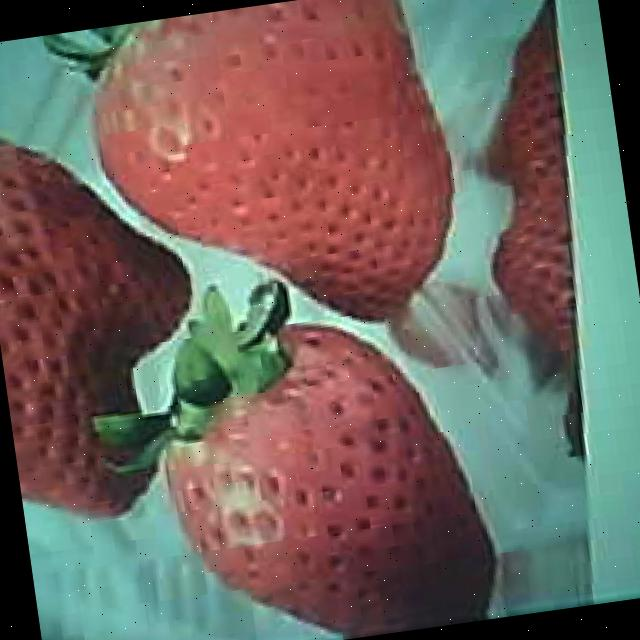strawberry: (82, 0, 470, 353), (146, 306, 505, 640)
